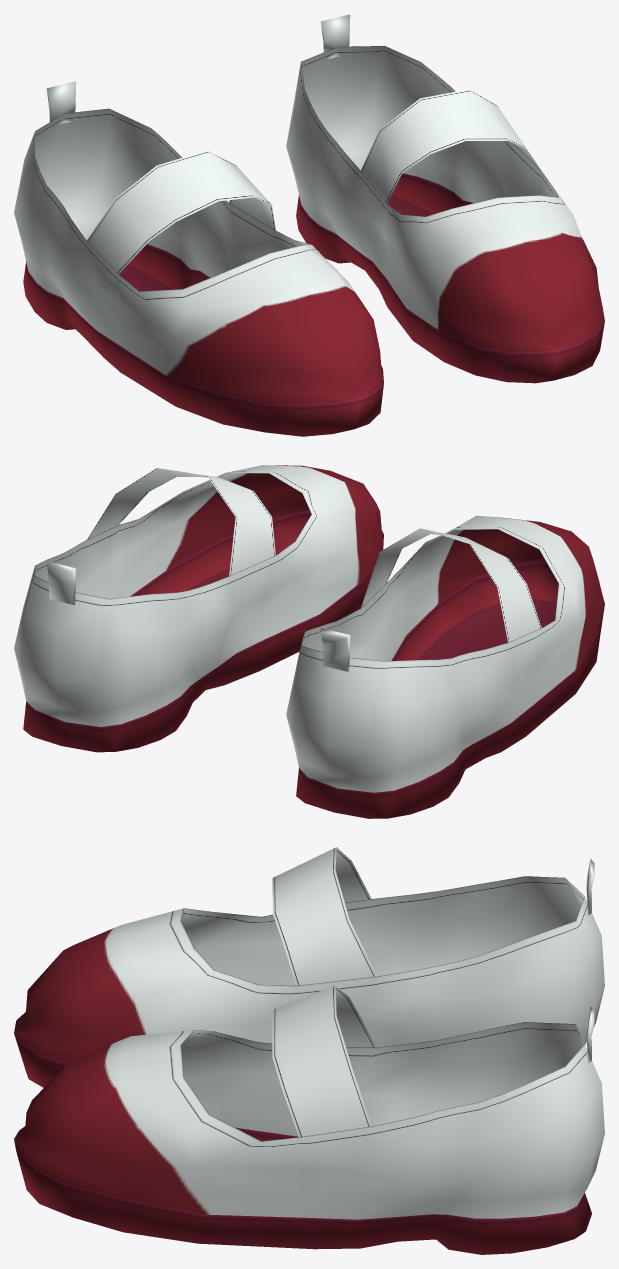
File: shoes 2.fbx
3 renders of one model, top to bottom at view 1: azimuth 30°, elevation 25°; view 2: azimuth 150°, elevation 25°; view 3: azimuth 270°, elevation 25°, orthographic. The views are drawn at different scales.
Parts seen in each view (by area): view 1: カスタム少女_mesh; view 2: カスタム少女_mesh; view 3: カスタム少女_mesh.
Boxes of the visible parts, box(x1,y1,x2,y2) form: カスタム少女_mesh: box(14, 14, 604, 436); カスタム少女_mesh: box(14, 465, 604, 818); カスタム少女_mesh: box(14, 847, 604, 1254).
Bounding box in the file's own units: 25.4 × 11.4 × 27.71.
1 material, 1 textured.
